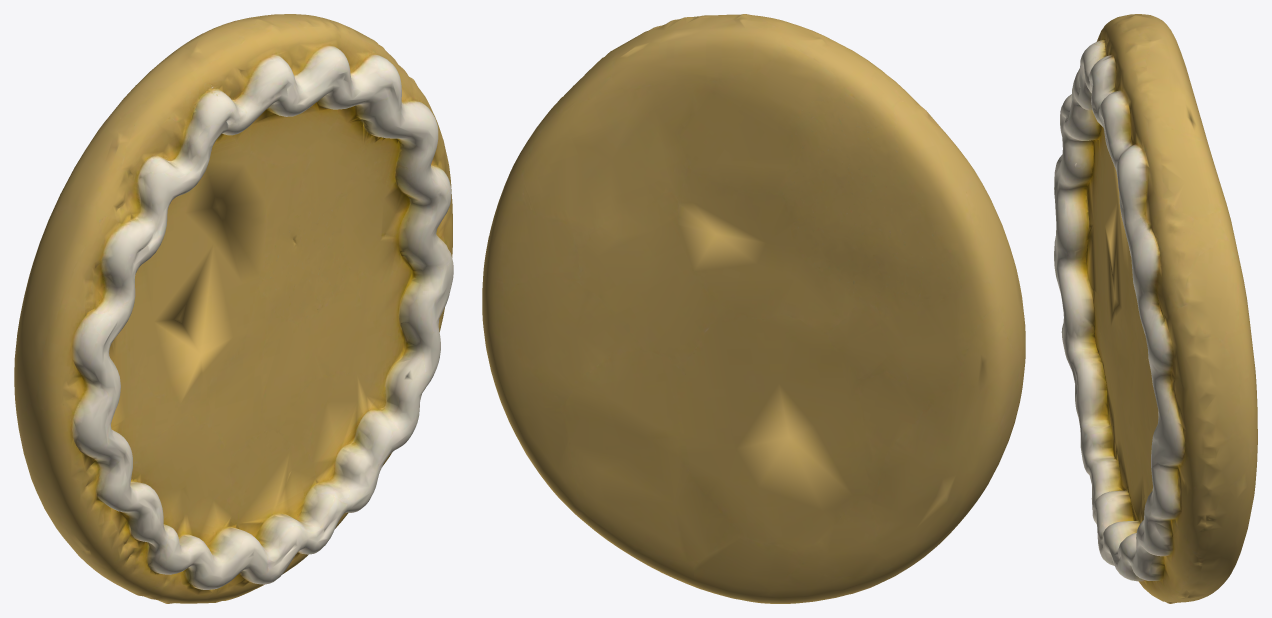
File: bk-pastry-cookie-round.glb
The picture shows the model from 3 angles, left to right: view 1: azimuth 30°, elevation 25°; view 2: azimuth 150°, elevation 25°; view 3: azimuth 270°, elevation 25°; orthographic projection. The views are drawn at different scales.
Parts seen in each view (by area): view 1: node_0; view 2: node_0; view 3: node_0.
Boxes of the visible parts, left/top/right/bottom form: node_0: left=14, top=14, right=453, bottom=603; node_0: left=482, top=14, right=1025, bottom=603; node_0: left=1054, top=14, right=1257, bottom=603.
Bounding box in the file's own units: 1.05 × 1.2 × 0.4023.
Materials: 1 (1 with a texture image).
